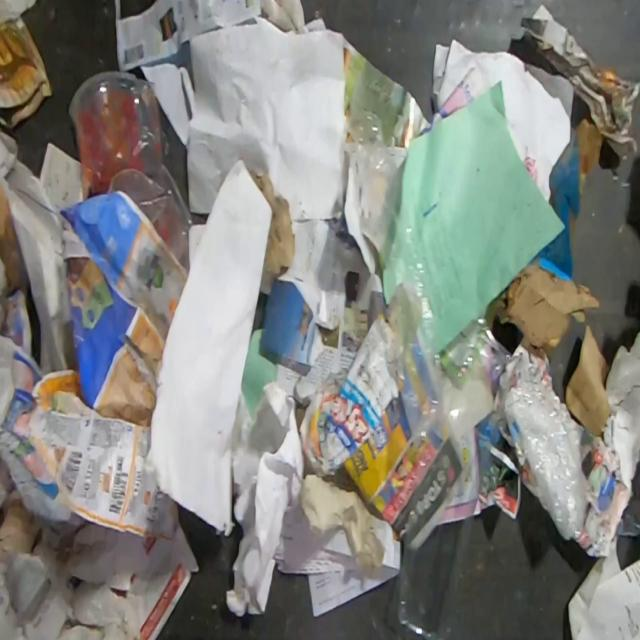cardboard: (0, 521, 153, 640), (490, 263, 601, 363), (591, 330, 640, 500), (529, 123, 581, 281), (137, 515, 201, 640), (0, 13, 54, 129), (564, 320, 612, 438), (249, 167, 296, 277), (0, 502, 43, 564), (574, 116, 606, 176)
rigid_plastic: (66, 68, 194, 271)
soft_plastic: (344, 103, 512, 640), (498, 345, 591, 543)
